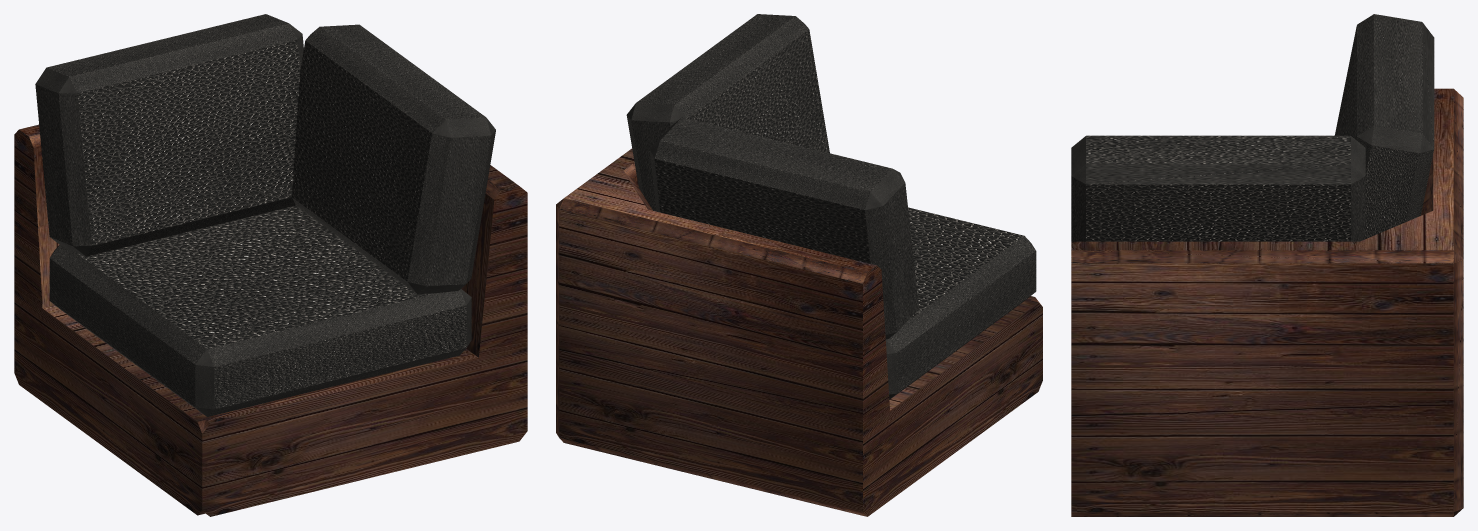
File: sofa_corner.glb
3 renders of one model, left to right at view 1: azimuth 30°, elevation 25°; view 2: azimuth 150°, elevation 25°; view 3: azimuth 270°, elevation 25°, orthographic. The views are drawn at different scales.
Parts seen in each view (by area): view 1: object4, object3.001, object2.001, object1.002; view 2: object4, object2.001, object1.002, object3.001; view 3: object4, object1.002, object2.001.
Boxes of the visible parts, left/top/right/bottom form: object4: left=14, top=124, right=527, bottom=516; object3.001: left=49, top=205, right=471, bottom=416; object2.001: left=35, top=14, right=303, bottom=256; object1.002: left=292, top=24, right=495, bottom=294; object4: left=556, top=148, right=1042, bottom=516; object2.001: left=649, top=117, right=918, bottom=339; object1.002: left=626, top=14, right=829, bottom=211; object3.001: left=885, top=207, right=1036, bottom=399; object4: left=1071, top=88, right=1463, bottom=516; object1.002: left=1071, top=135, right=1365, bottom=241; object2.001: left=1334, top=14, right=1434, bottom=238.
Bounding box in the file's own units: 1 × 0.9777 × 1.
Materials: 2 (2 with a texture image).
